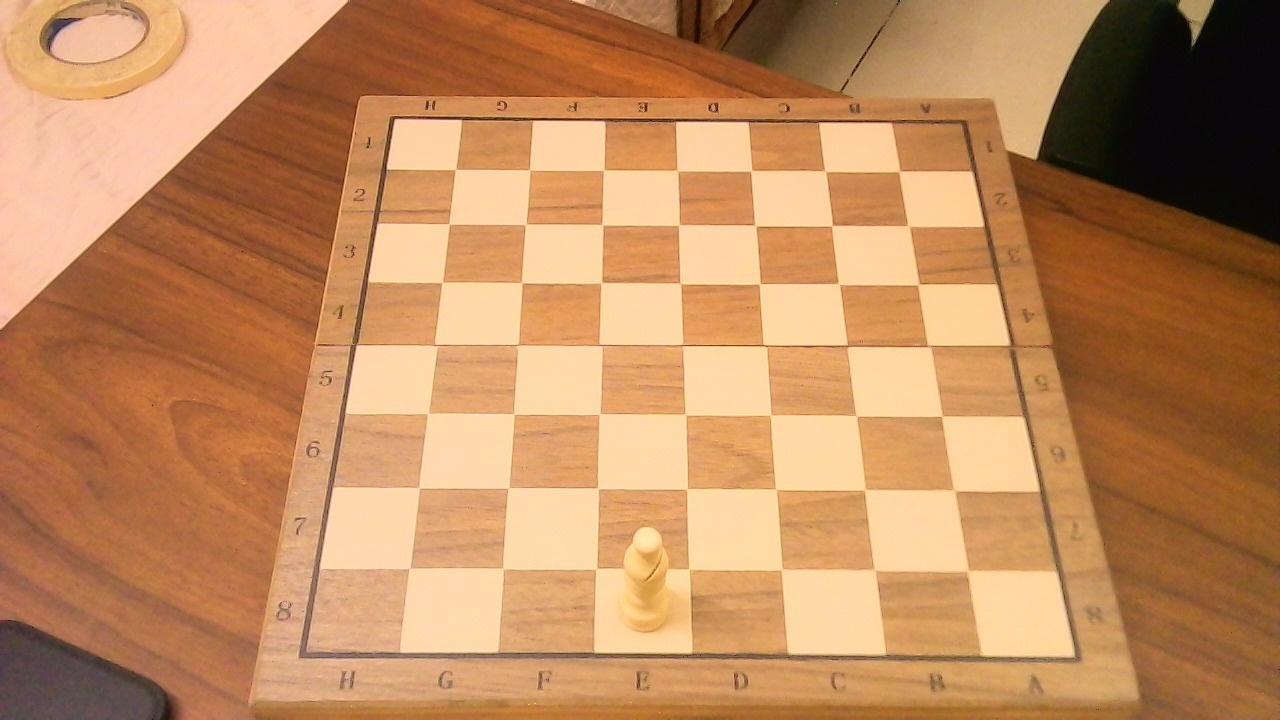B: (604, 516, 681, 638)
